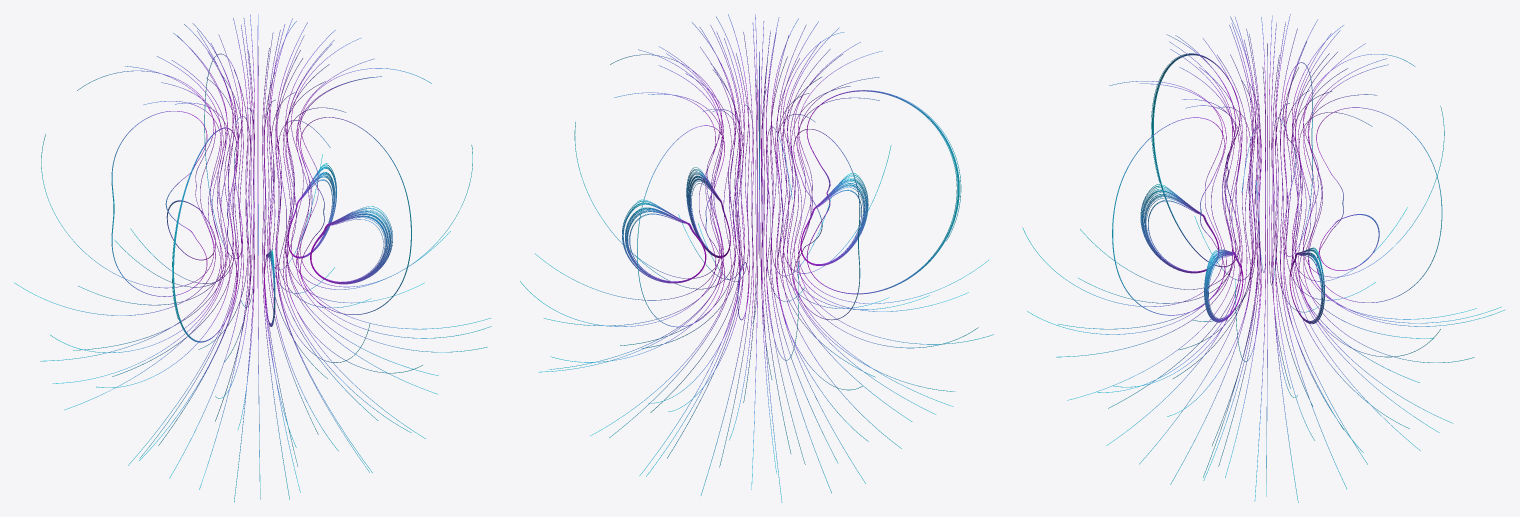
The model's file is coil_2_field_lines.gltf.
3 renders of one model, left to right at view 1: azimuth 30°, elevation 25°; view 2: azimuth 150°, elevation 25°; view 3: azimuth 270°, elevation 25°, orthographic.
Parts seen in each view (by area): view 1: Renderer Node; view 2: Renderer Node; view 3: Renderer Node.
Boxes of the visible parts, x1,y1,x2,y2 form: Renderer Node: [14, 14, 491, 502]; Renderer Node: [520, 14, 993, 502]; Renderer Node: [1022, 14, 1505, 502].
Size of the model in its own units: 2.07 by 2.07 by 2.05.
Materials: 1 (1 with a texture image).
